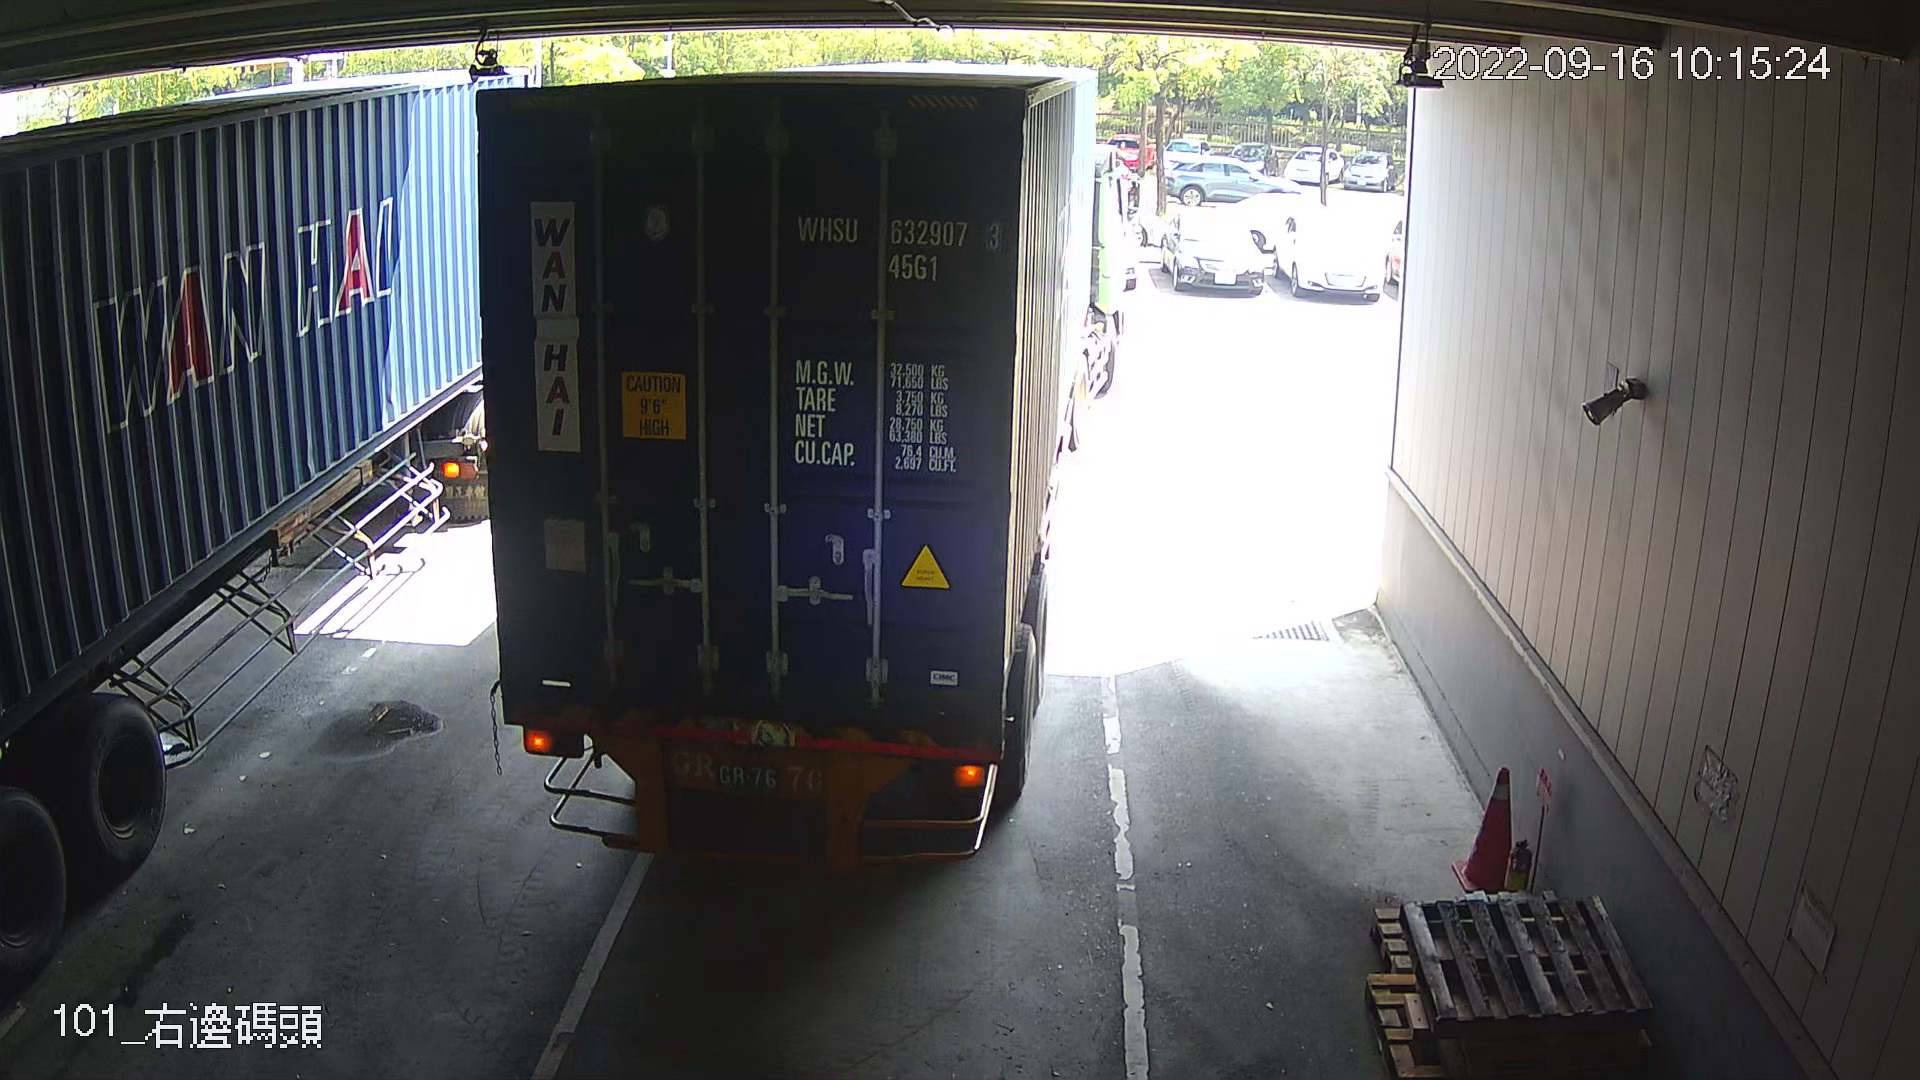container: (791, 202, 1007, 289)
